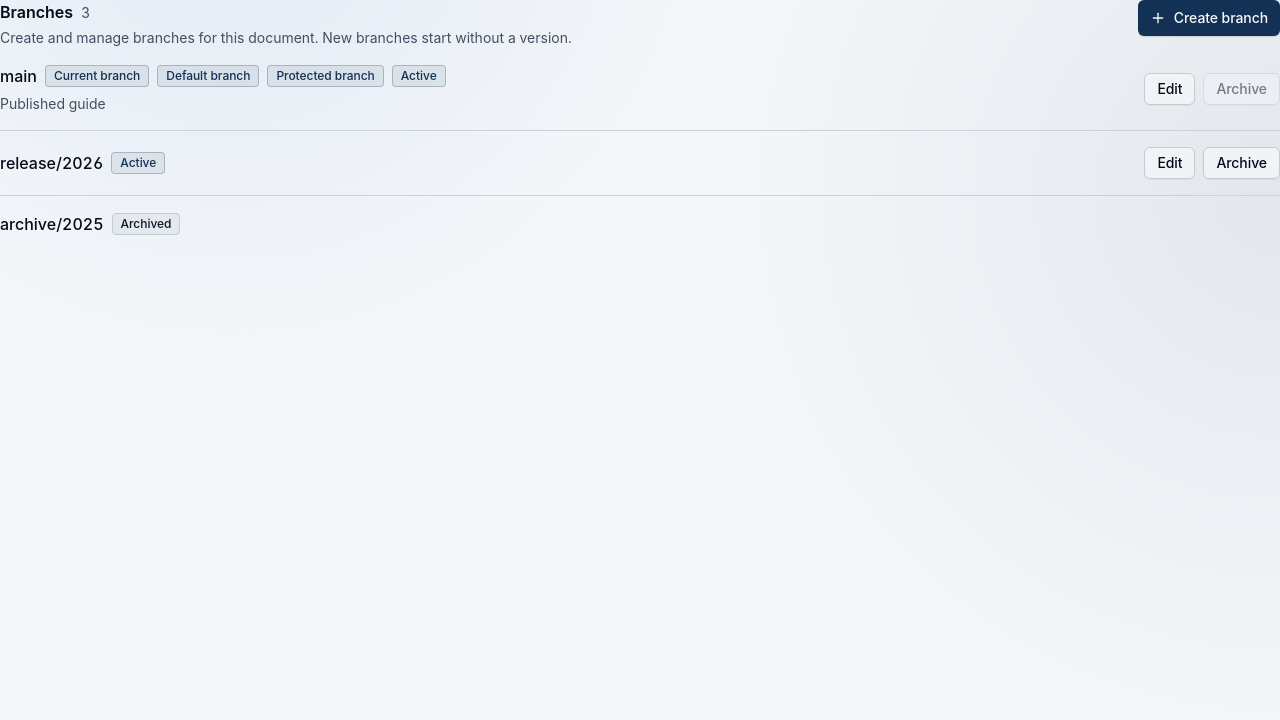
Test case: document branch management › creates a custom branch with normalized name and description
Expected: the text "main" is shown, x1=0 y1=64 x2=37 y2=88
Click the button "Create branch": (1209, 18) x1=1138 y1=0 x2=1279 y2=36
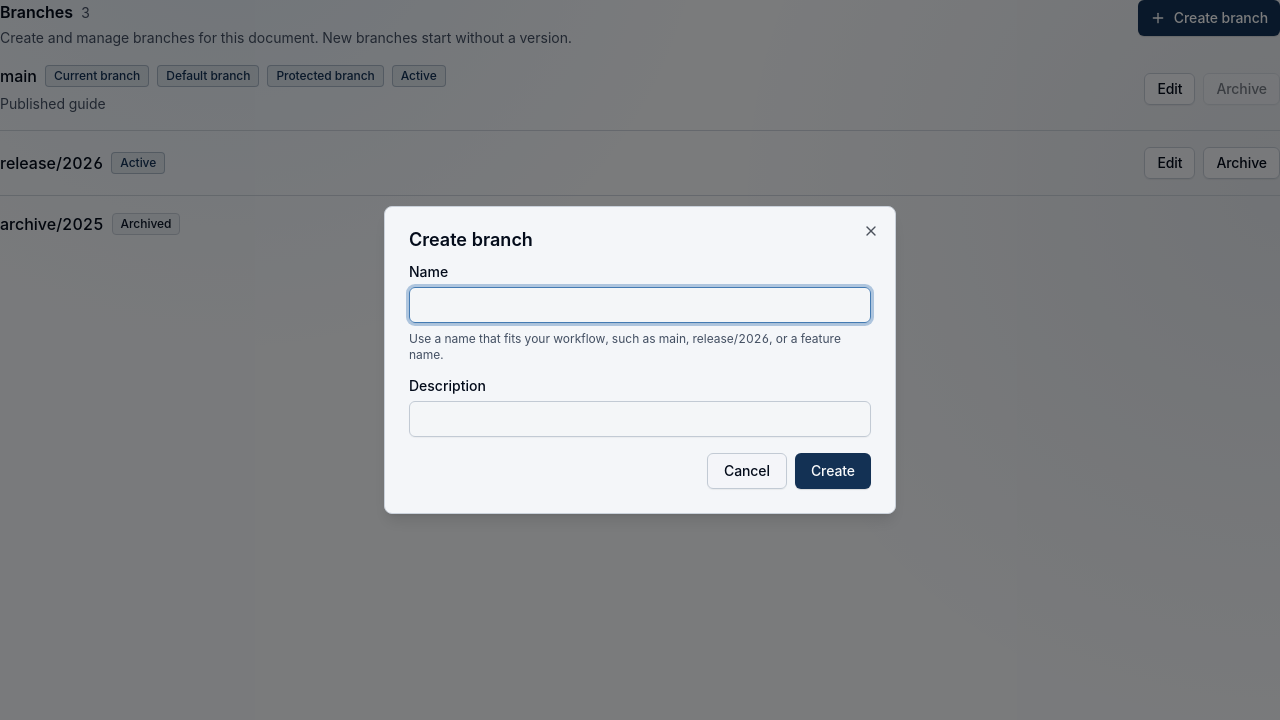
In the field labelled "Name": (640, 305) x1=409 y1=287 x2=871 y2=323, type "  docs/中文-v2  "
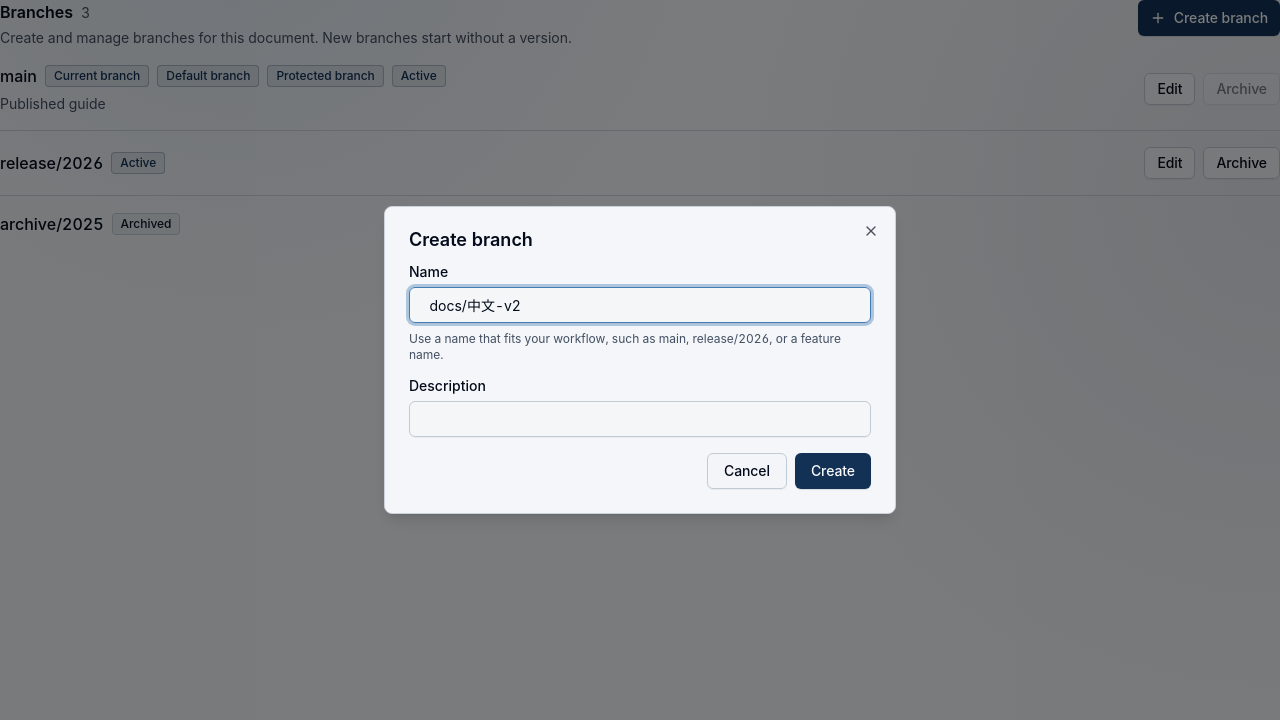
In the field labelled "Description": (640, 419) x1=409 y1=401 x2=871 y2=437, type "  New release  "
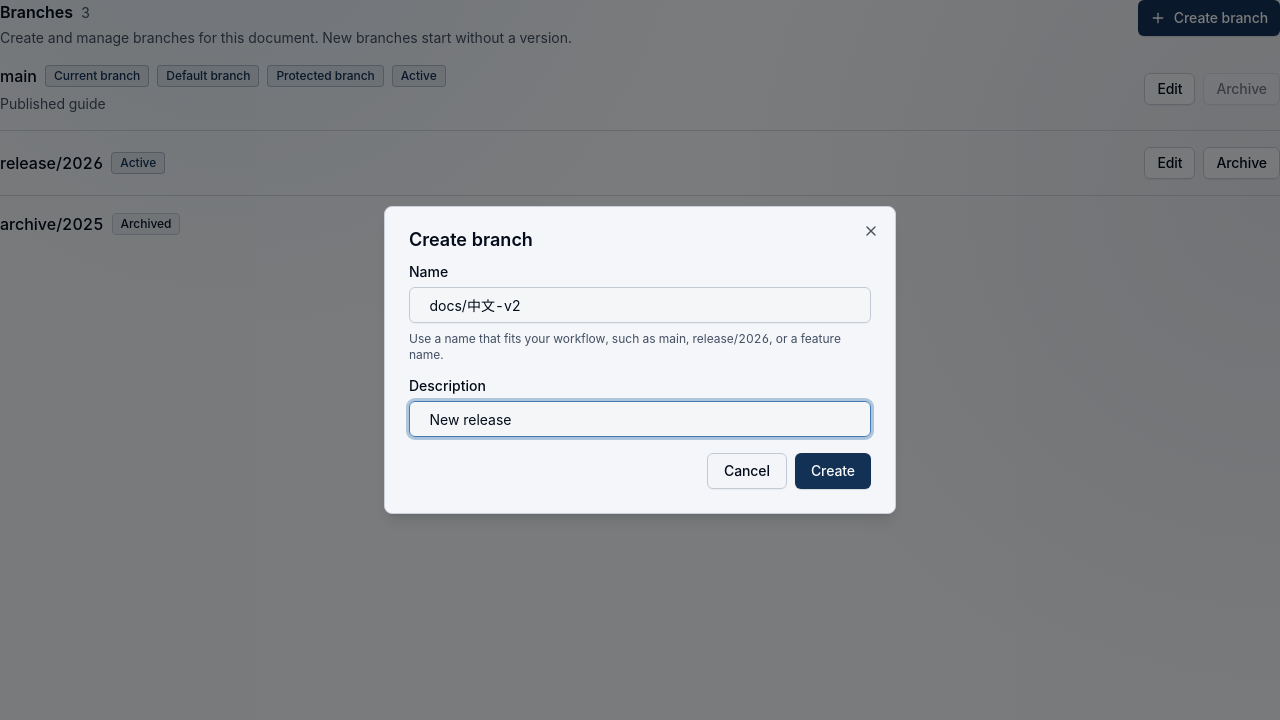
Click the button "Create": (833, 471) x1=795 y1=453 x2=871 y2=489
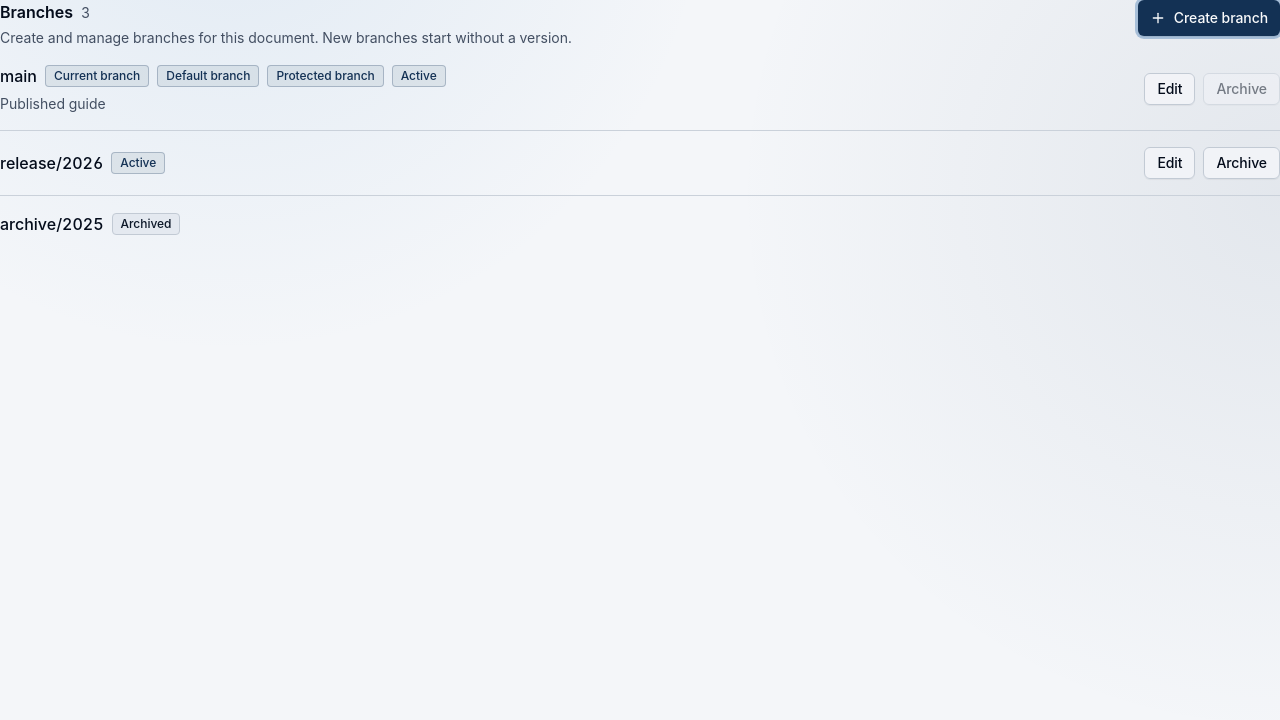
Expected: the dialog is gone
